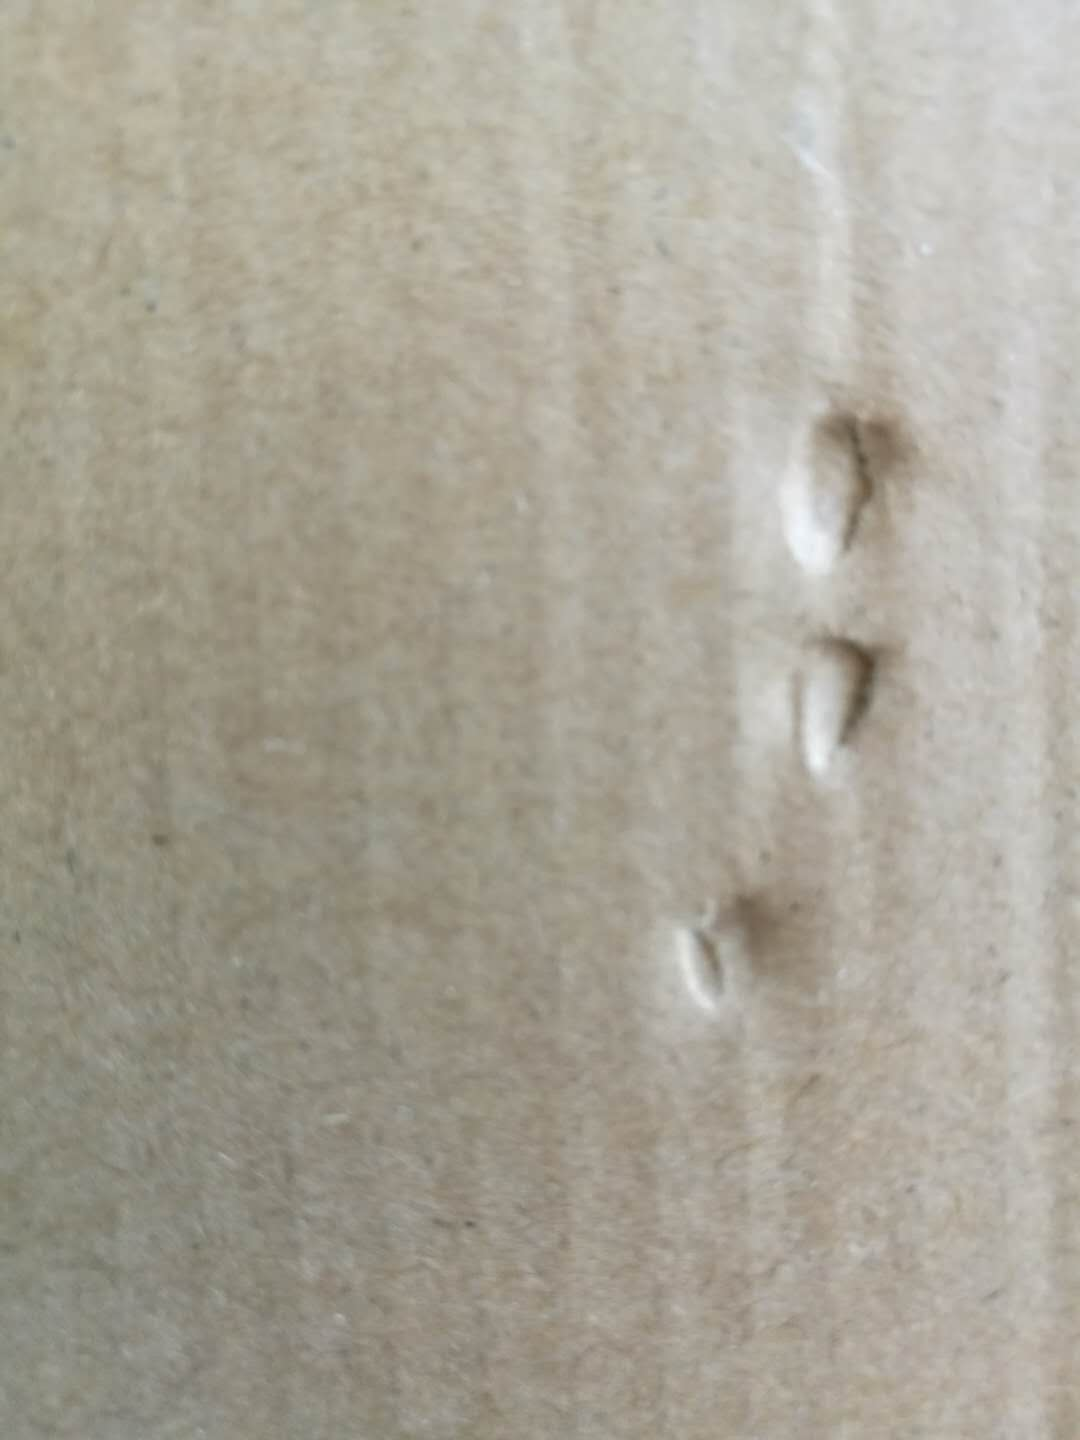defect: (628, 858, 868, 1068), (731, 370, 934, 592), (759, 610, 943, 808)
